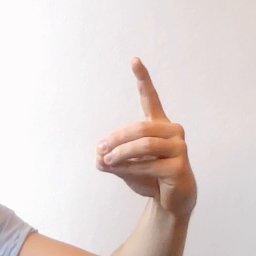D: (94, 53, 200, 218)
